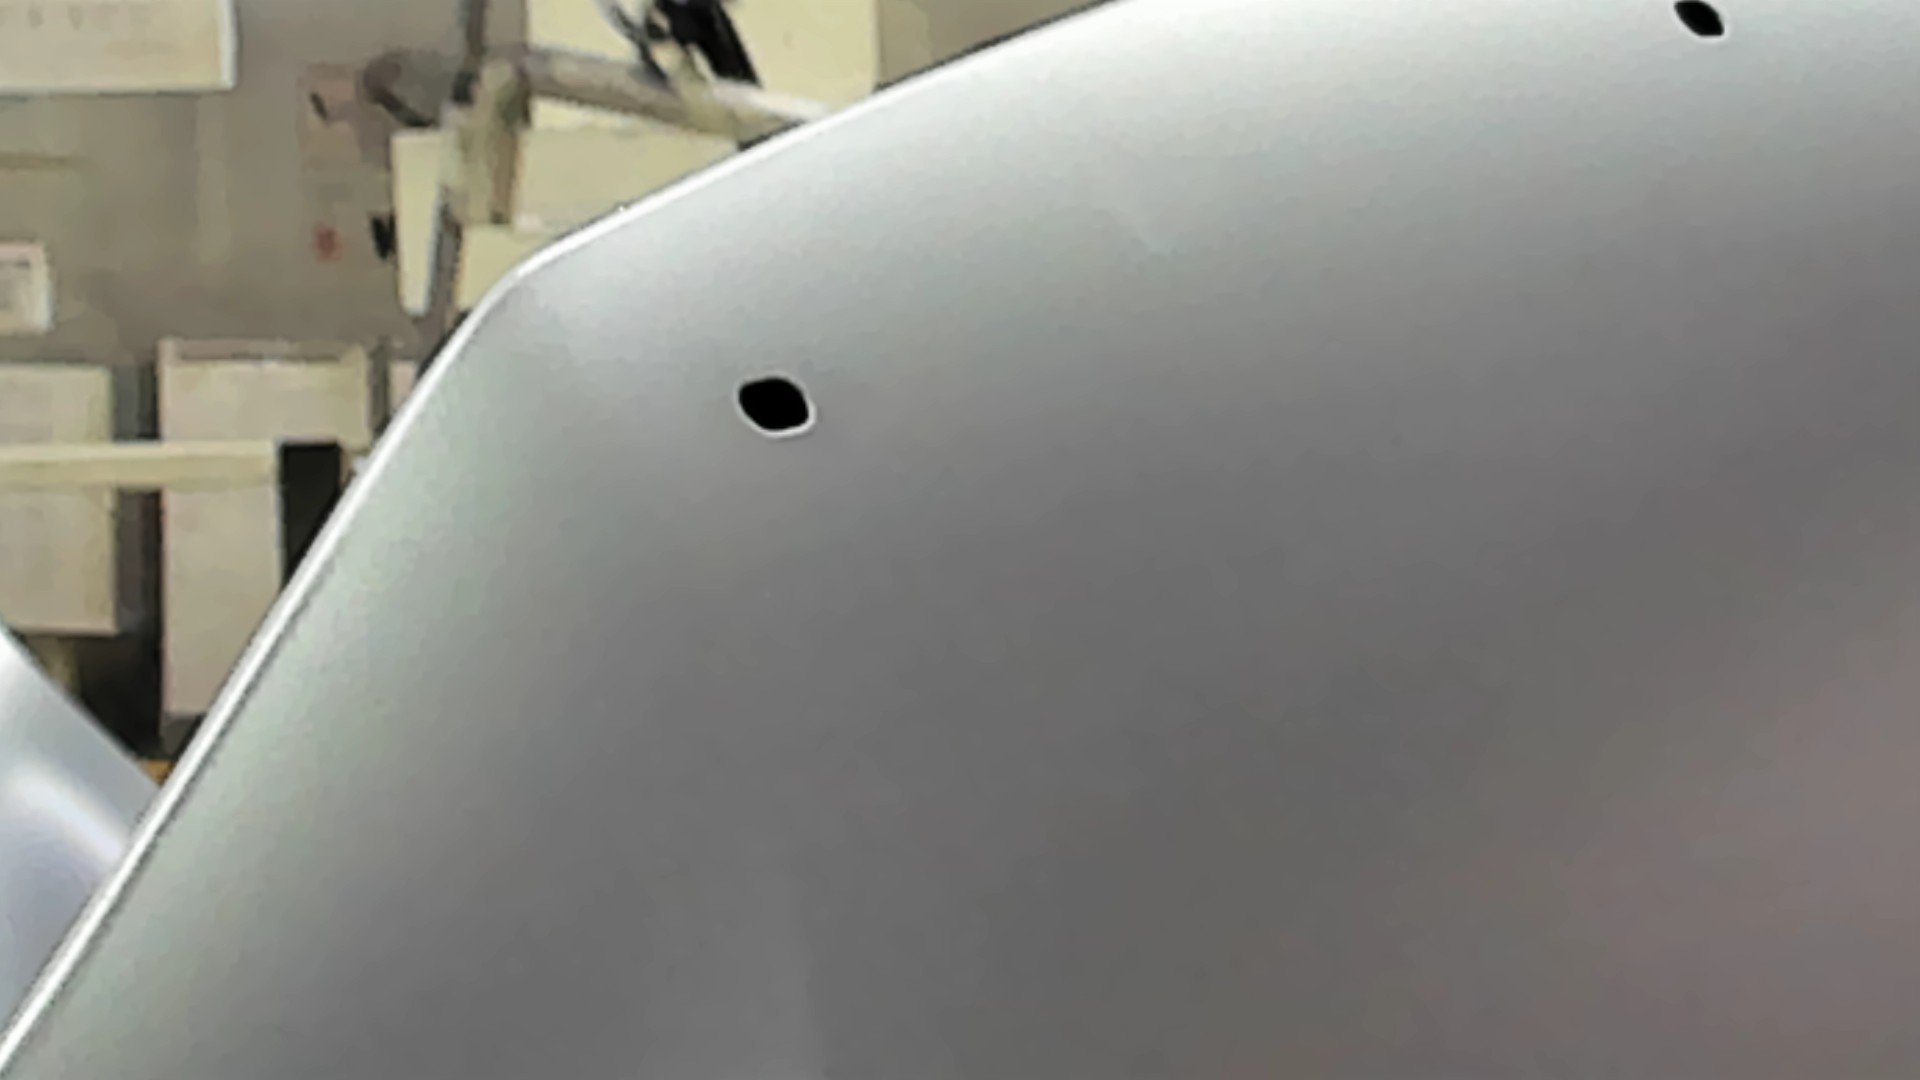amorfo: (723, 369, 825, 443), (1668, 1, 1737, 46)
capo: (889, 120, 1920, 1080)
